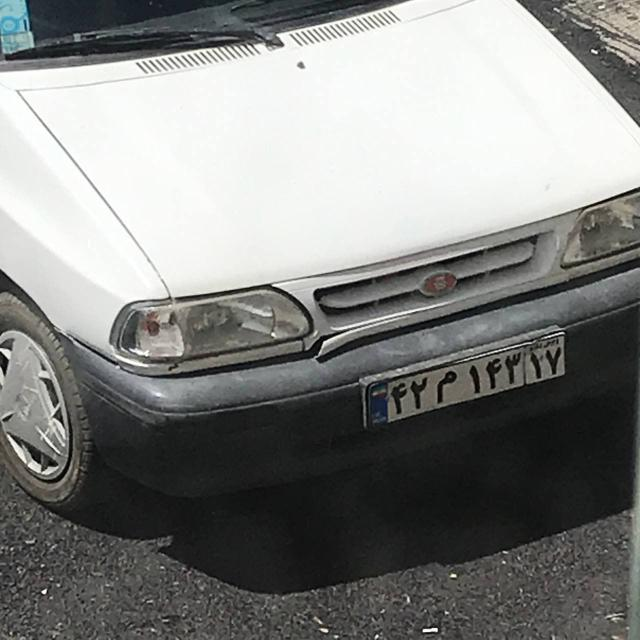Plates: (358, 332, 575, 429)
